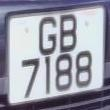1: (42, 54, 55, 98)
7: (18, 55, 43, 100)
8: (74, 49, 95, 91), (54, 52, 75, 93)
B: (56, 11, 79, 55)
G: (35, 14, 60, 55)
